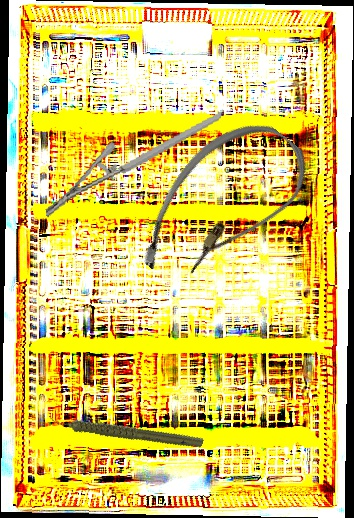Cannula: (123, 99, 322, 313)
Handpiece: (47, 381, 205, 479)
Needle Holder: (33, 111, 234, 219)
